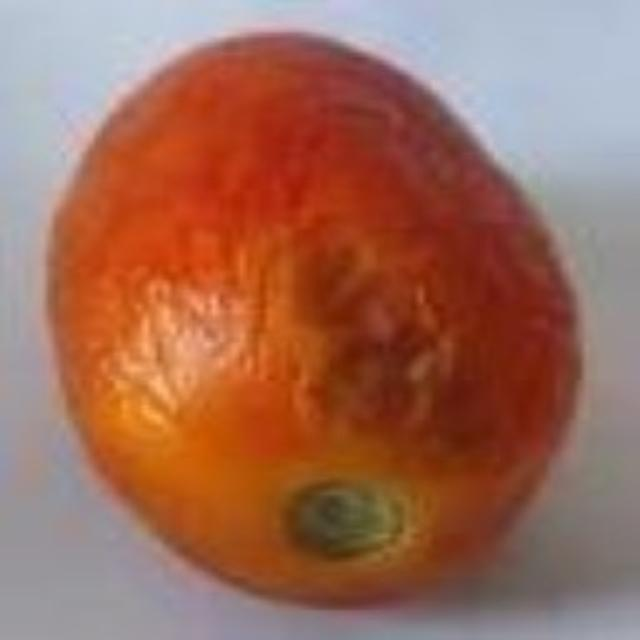defect: (44, 21, 600, 614)
